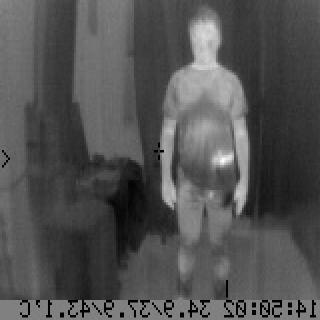Gun: (206, 148, 236, 210)
